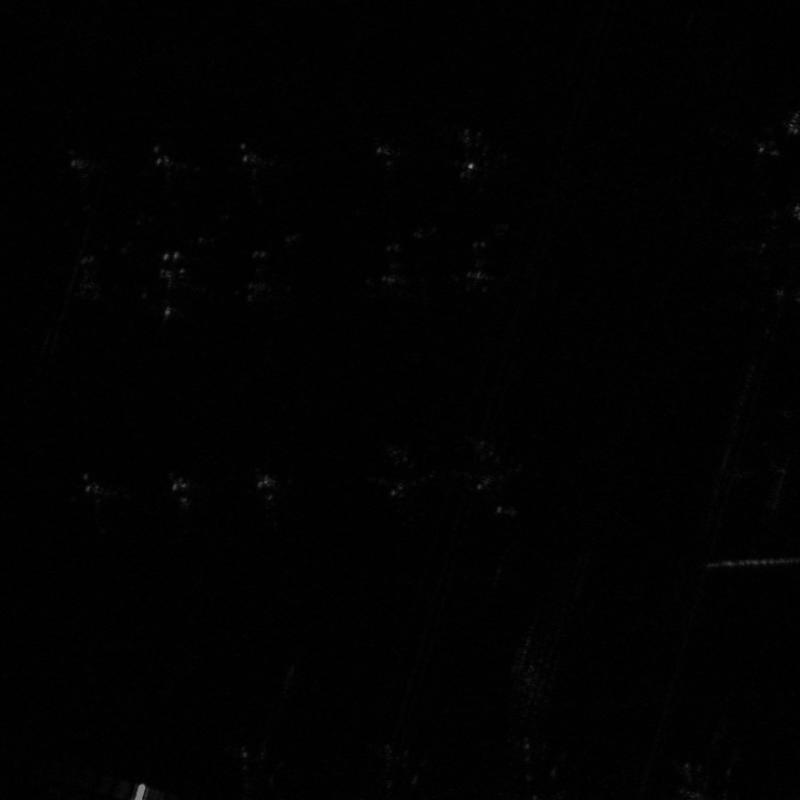A220: (450, 436, 530, 496), (355, 240, 429, 302), (142, 469, 222, 524)
A320/321: (233, 466, 301, 524)
ARJ21: (53, 470, 135, 538), (436, 237, 525, 299), (222, 243, 304, 307), (52, 252, 121, 309)
Boeing737: (130, 242, 211, 327)
Boeing787: (484, 739, 571, 799)
other: (431, 115, 521, 193), (711, 435, 797, 516), (355, 127, 438, 197), (361, 439, 440, 499), (209, 743, 292, 799), (216, 141, 283, 207), (44, 147, 112, 211), (136, 145, 204, 197)
